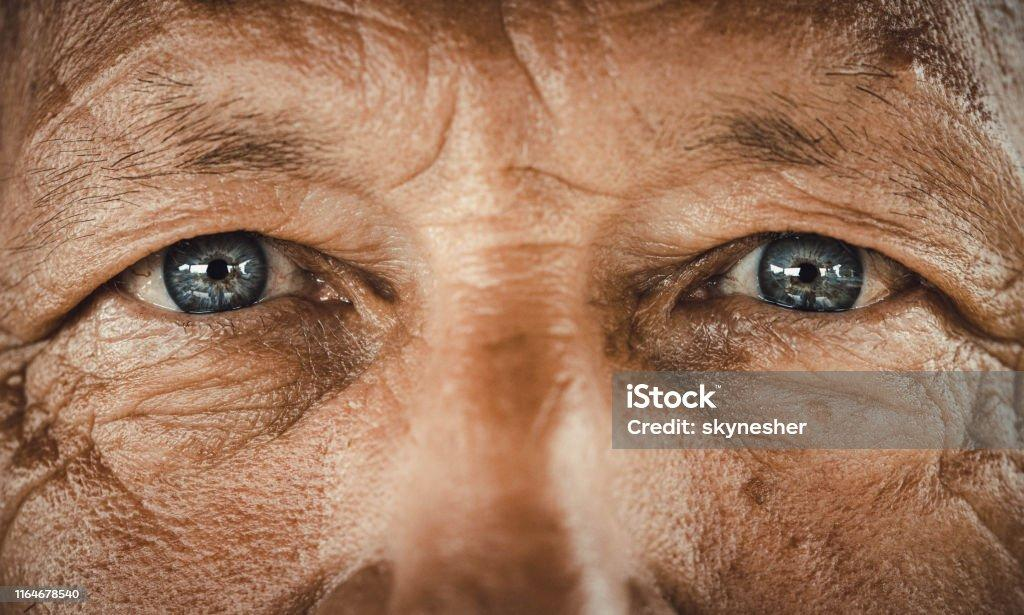Dry-Skin: (123, 53, 447, 328), (237, 385, 653, 575), (705, 412, 1024, 615), (665, 62, 1024, 217), (457, 22, 603, 282), (37, 382, 183, 615)
